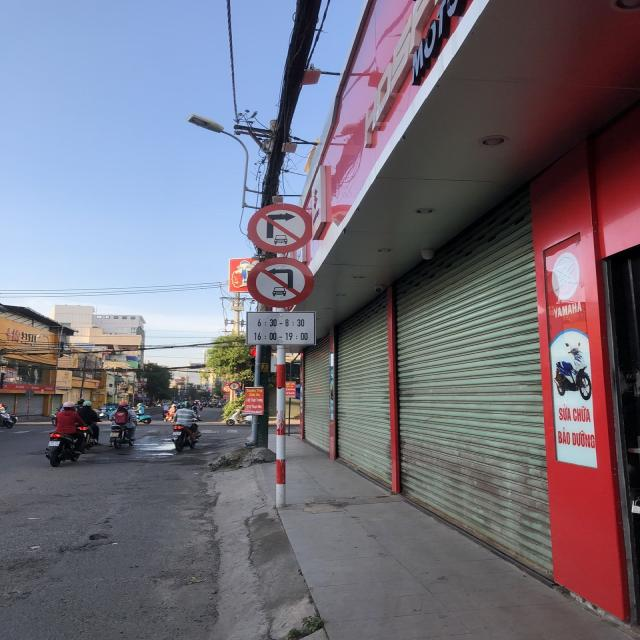Bien bao cam xe o to re phai: (242, 198, 317, 256)
Bien bao cam xe o to re trai: (235, 254, 317, 312)
